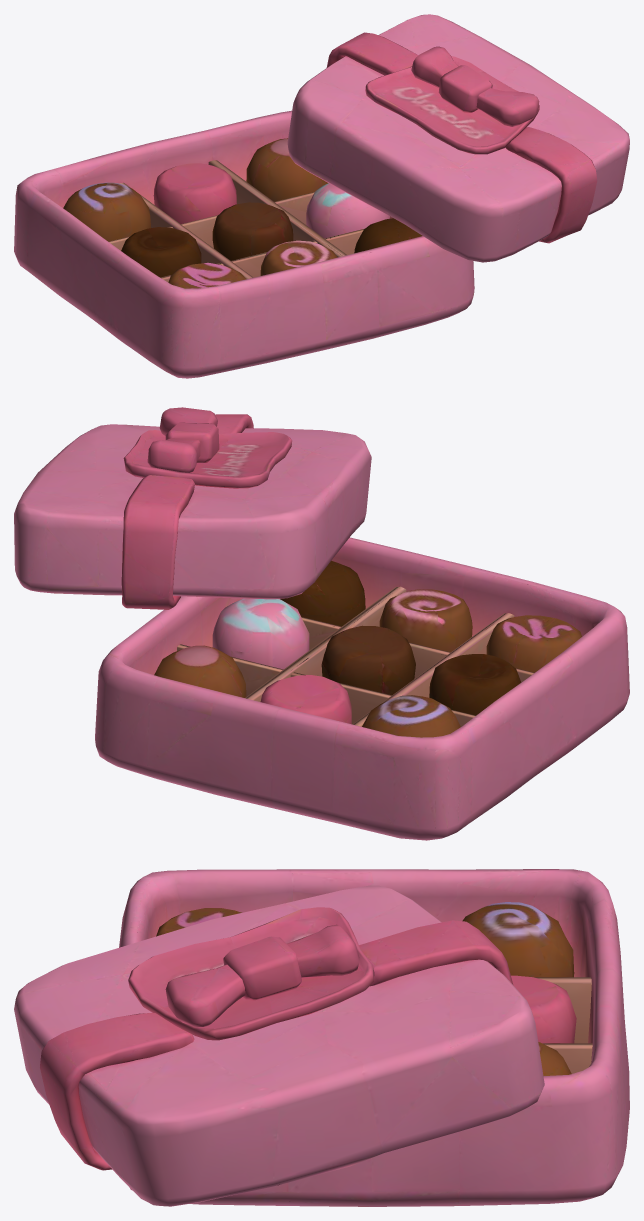
The model's file is gift-choco.glb.
The picture shows the model from 3 angles, top to bottom: view 1: azimuth 30°, elevation 25°; view 2: azimuth 150°, elevation 25°; view 3: azimuth 270°, elevation 25°; orthographic projection. The views are drawn at different scales.
Visible parts, largest first — view 1: geometry_0; view 2: geometry_0; view 3: geometry_0.
Part boxes in pixels (box(x1,y1,x2,y2)): geometry_0: box(14, 14, 629, 378); geometry_0: box(14, 407, 629, 840); geometry_0: box(14, 869, 629, 1206).
Bounding box in the file's own units: 1 × 0.4228 × 0.797.
Materials: 1 (1 with a texture image).
